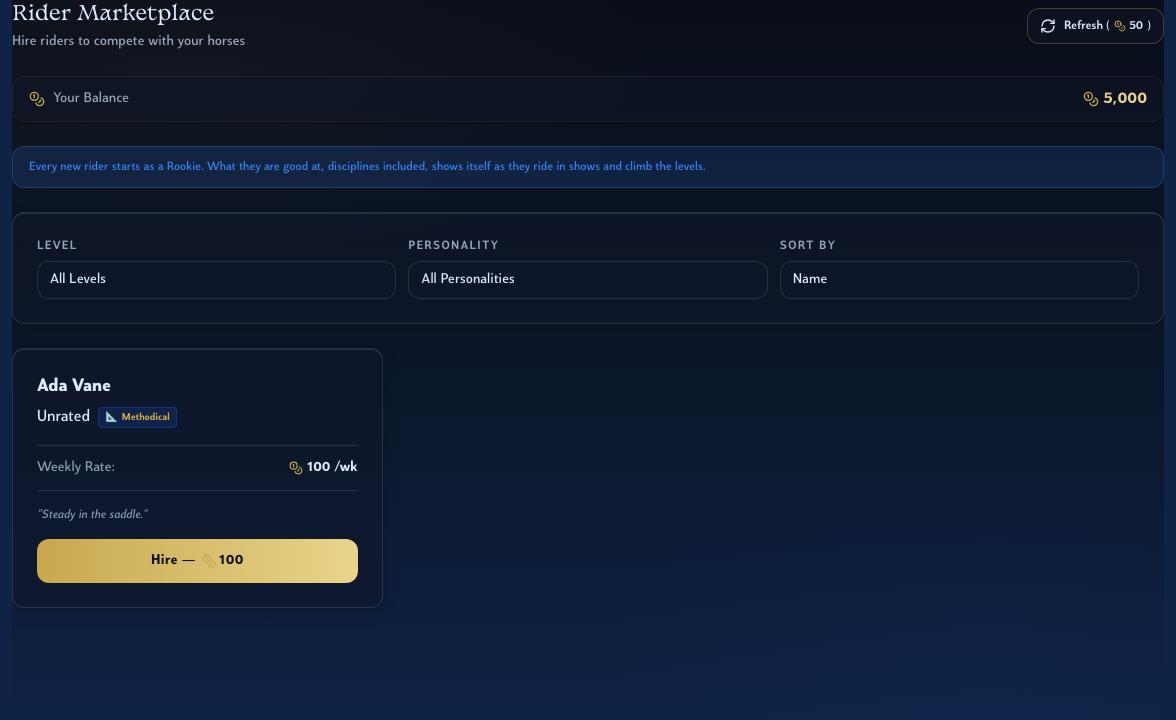
Test case: RiderList — refresh feedback (Equoria-oe9y8) › a refused refresh is announced beside the refresh control
What coordinates should you click on to do the following:
click the button with test id "refresh-marketplace-button"
I would click on:
 (1095, 26)
Its box is [1027,8,1164,44].
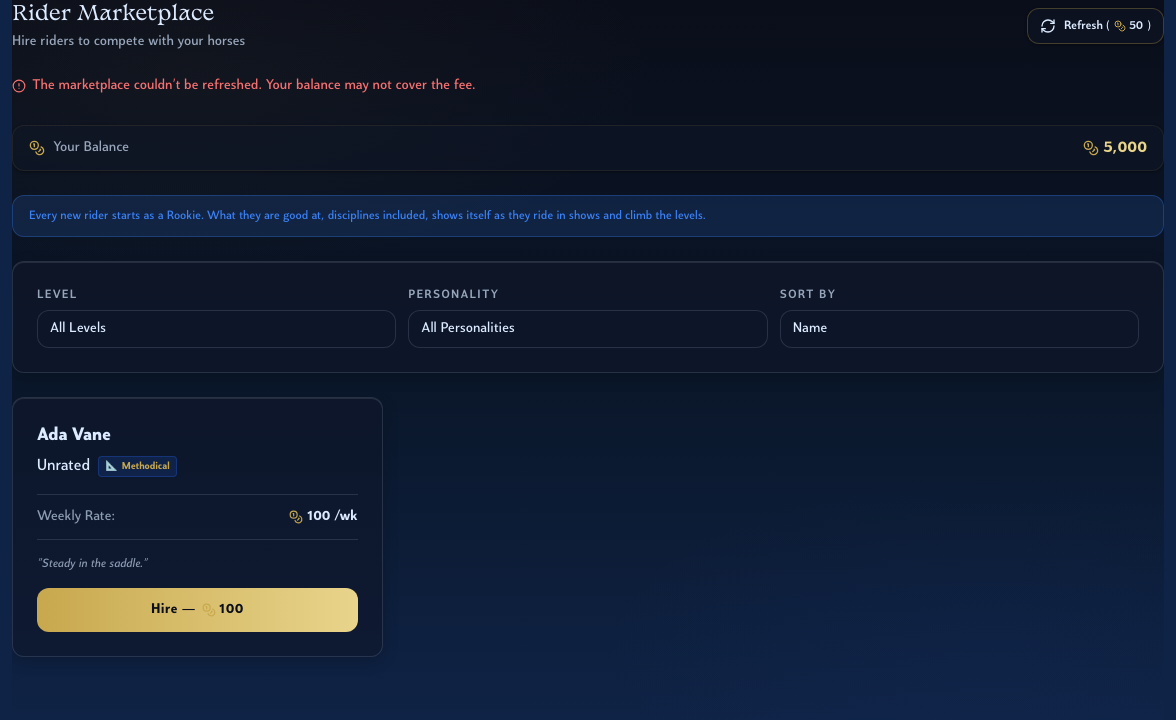
Expected: the element with test id "rider-card-mk-1" is shown, [12,397,383,657]
Expected: the message shows "refresh", [32,78,475,93]
